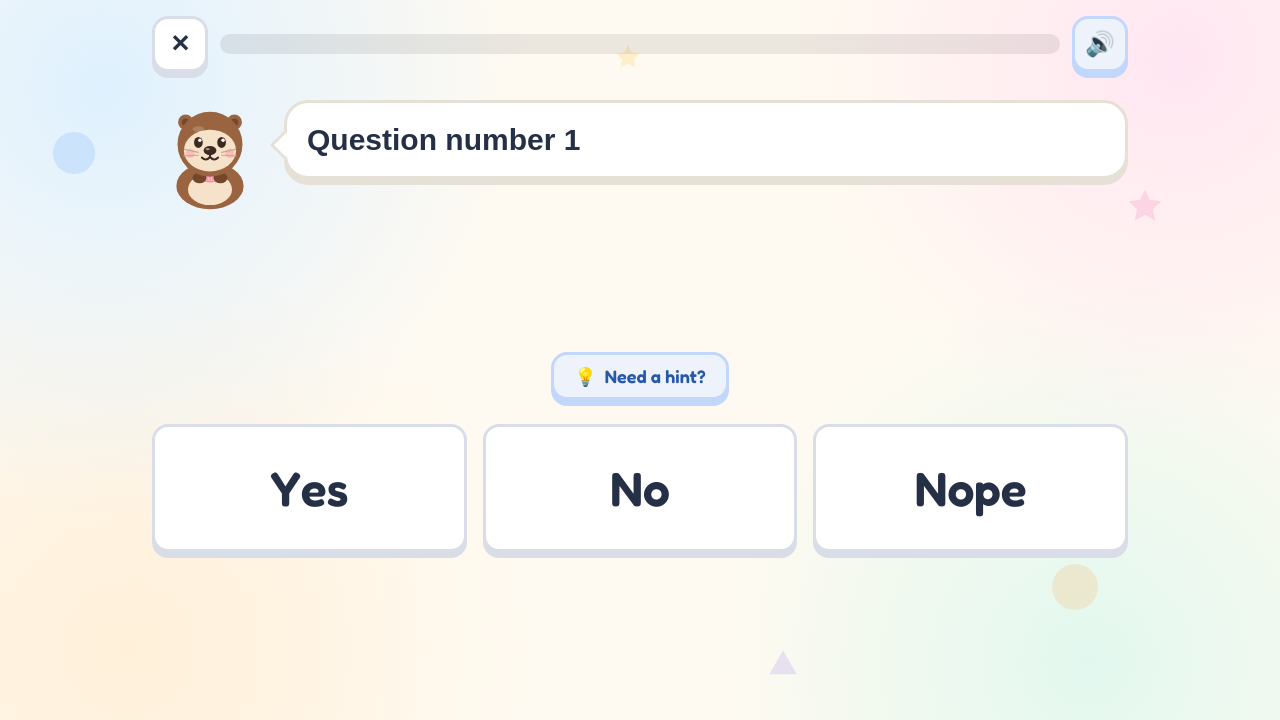
Test case: Session answer flow › counts a first-try correct answer as clean and moves on
Check: the text "Question number 1" is shown, box top-left (307, 123), bottom-right (580, 156)
What coordinates should you click on to do the following:
click the button "Yes"
I would click on:
 (309, 488)
Its box is top-left (152, 424), bottom-right (467, 552).
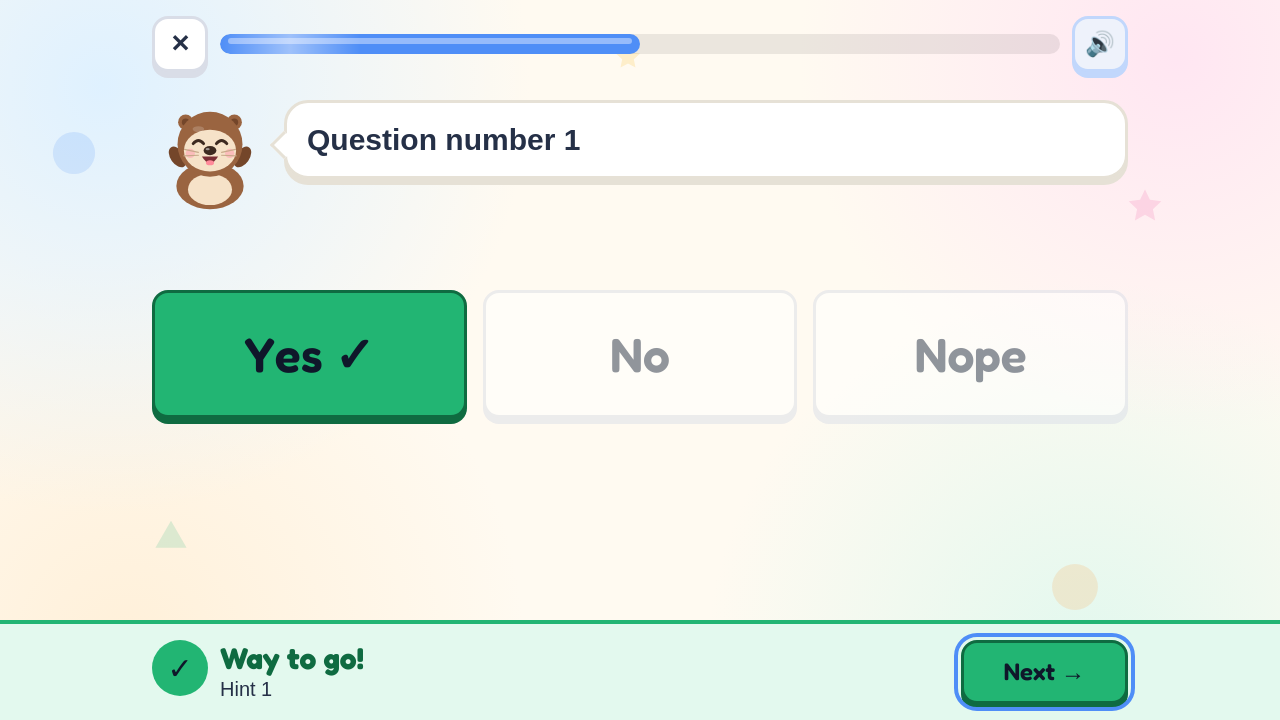
Check: the message "✓ Way to go! Hint 1 Next →" is shown, box top-left (0, 620), bottom-right (1279, 719)
What coordinates should you click on to do the following:
click the button "Next →"
I would click on:
 (1044, 672)
Its box is top-left (961, 640), bottom-right (1128, 704).
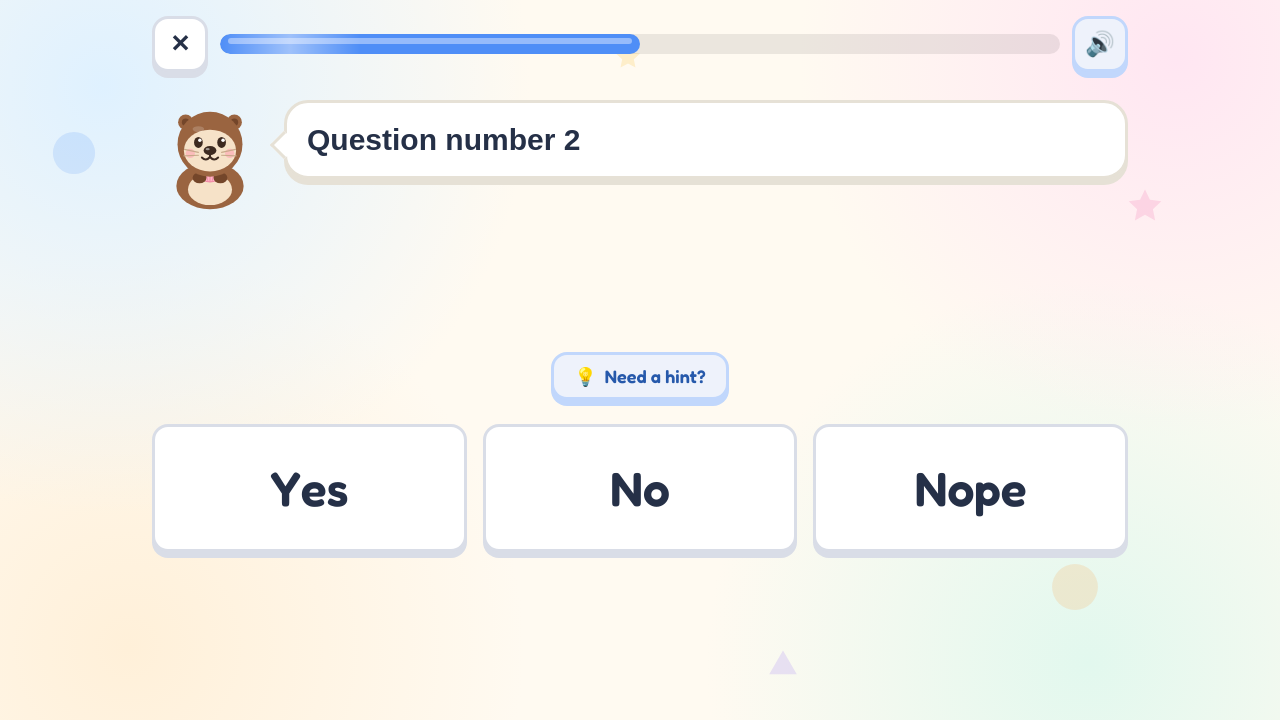
Check: the text "Question number 2" is shown, box top-left (307, 123), bottom-right (580, 156)
